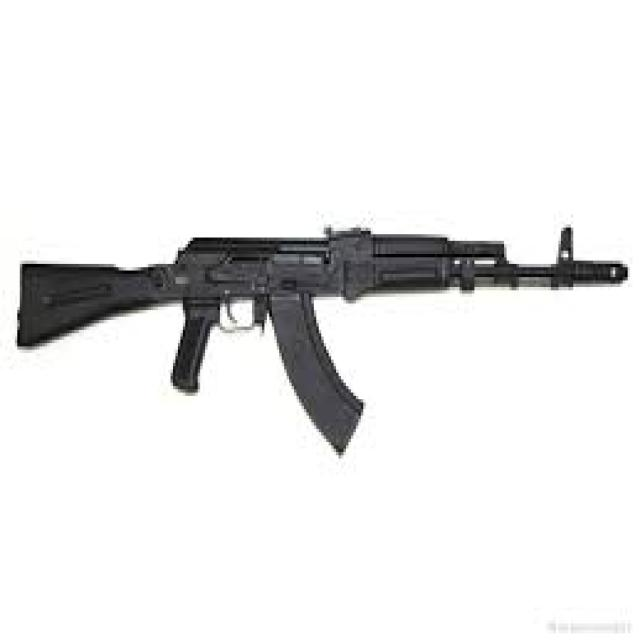rifle: (11, 221, 631, 464)
